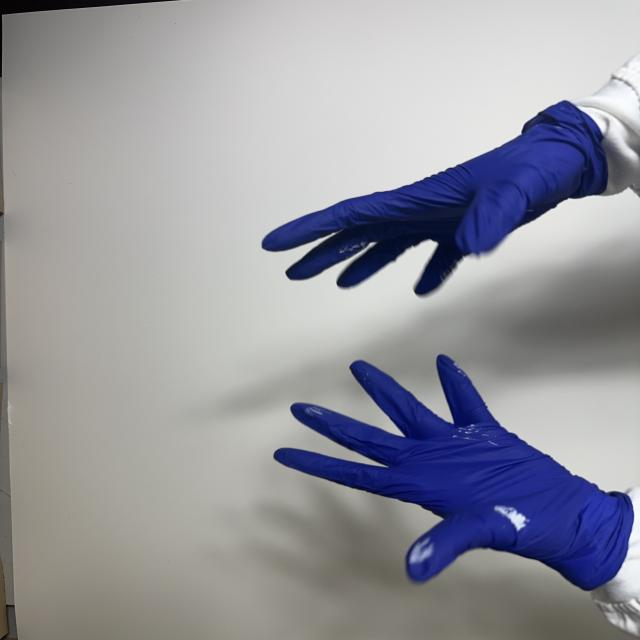gloves_contaminated: (274, 356, 640, 591), (263, 102, 607, 295)
